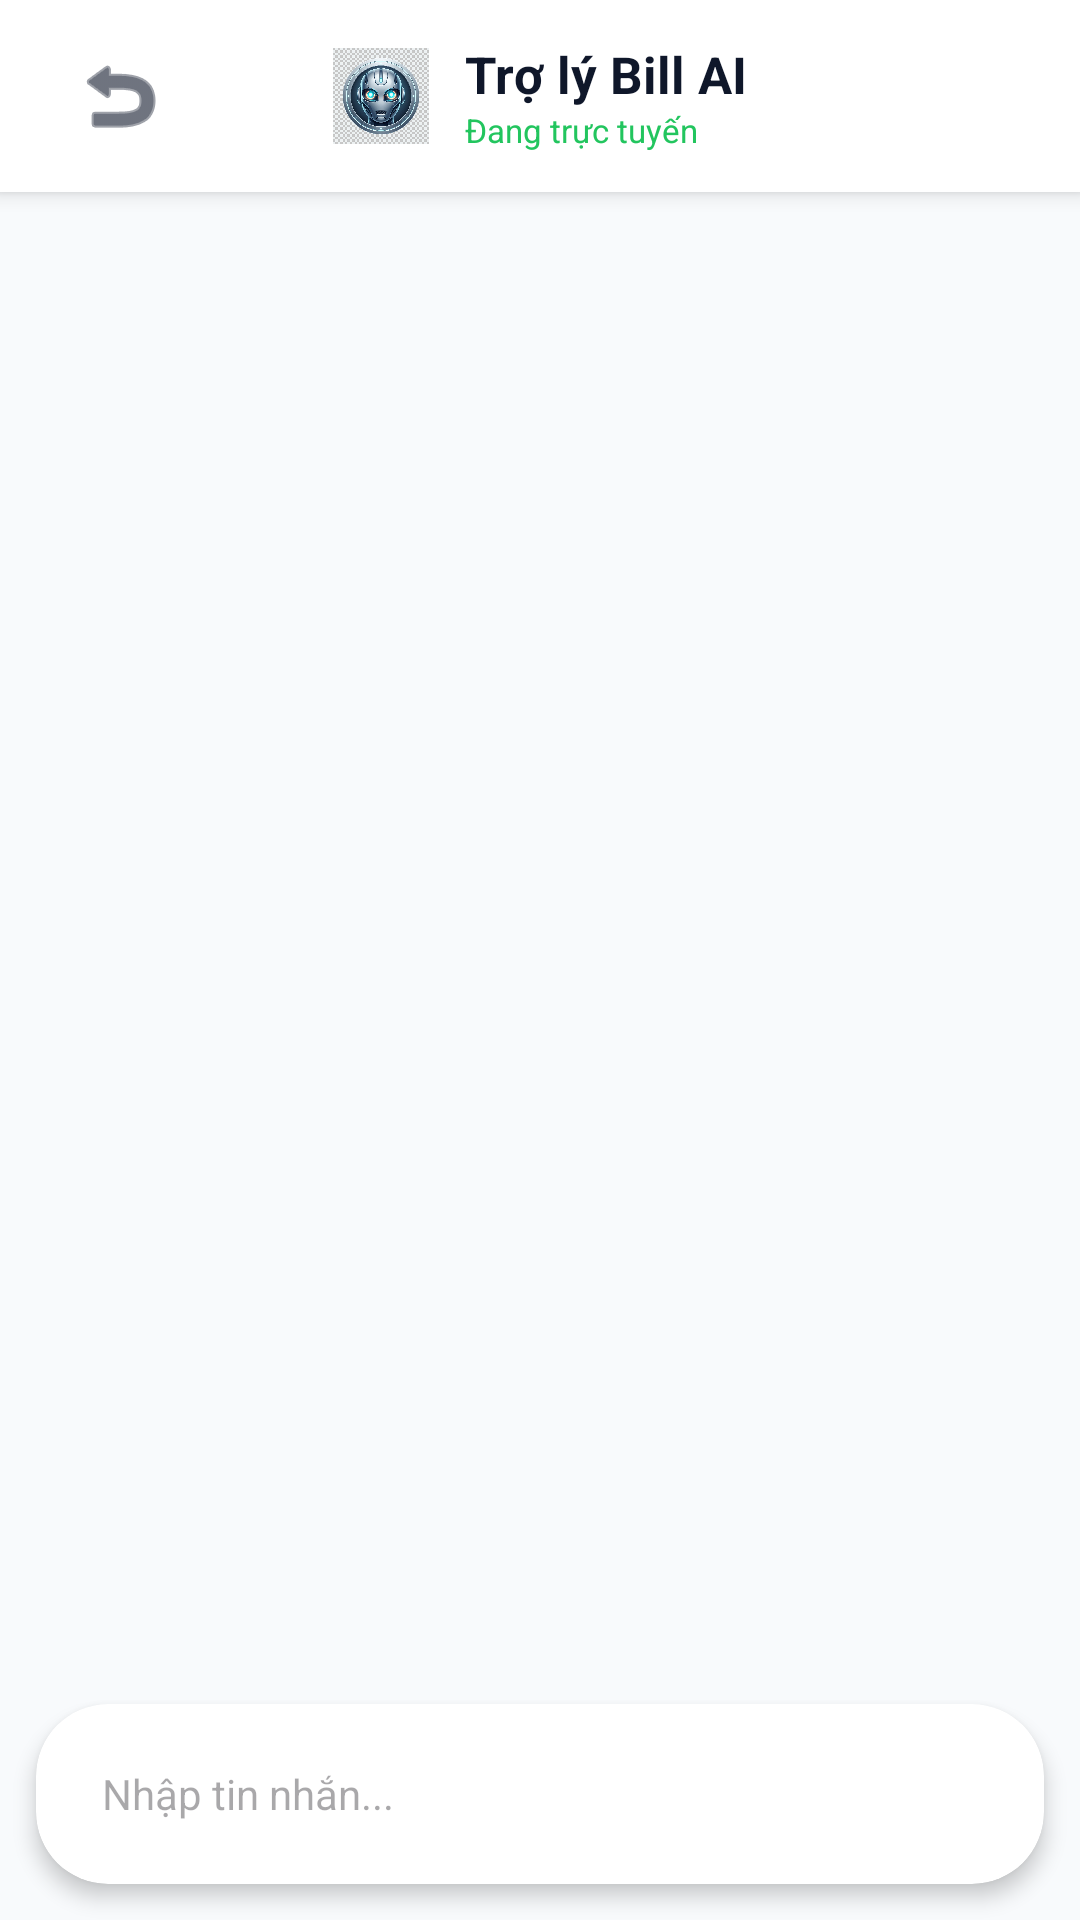

Locate icon controls on the screen. Image size 1080 x 1920, boxes as (x1, y1, x2, y2).
ai assistant: (333, 48, 429, 144)
revert: (87, 65, 156, 128)
